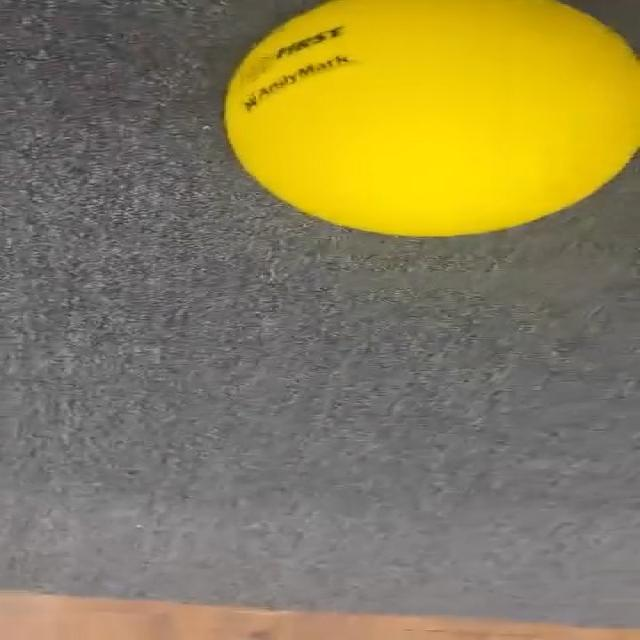Fuels: (224, 0, 640, 237)
